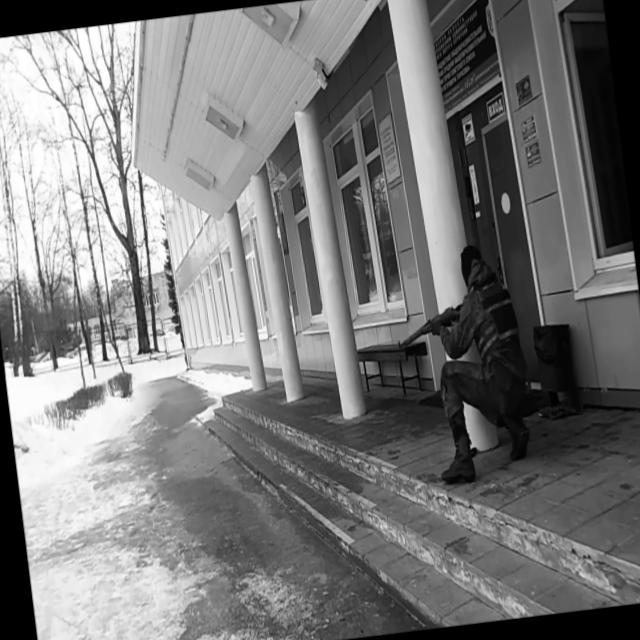gun: (393, 301, 468, 348)
person with a gun: (386, 238, 540, 489)
